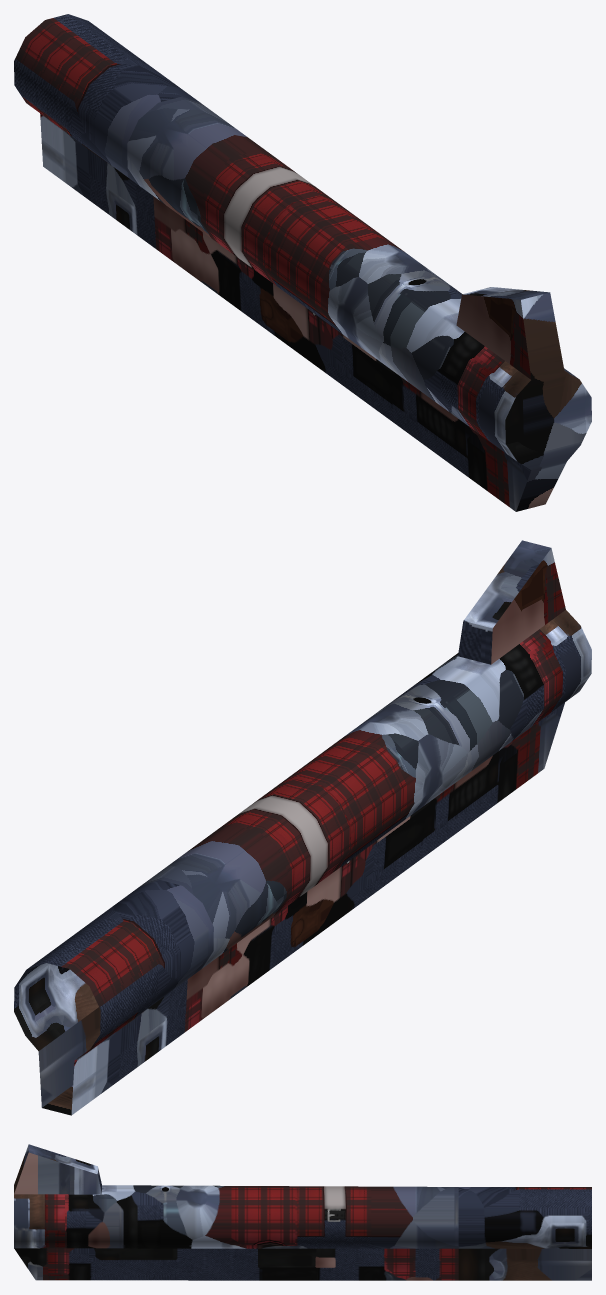
Rendered from RevolverFPV.fbx.
The picture shows the model from 3 angles, top to bottom: view 1: azimuth 30°, elevation 25°; view 2: azimuth 150°, elevation 25°; view 3: azimuth 270°, elevation 25°; orthographic projection. The views are drawn at different scales.
Parts seen in each view (by area): view 1: Body.004; view 2: Body.004; view 3: Body.004.
Boxes of the visible parts, left/top/right/bottom form: Body.004: left=14, top=14, right=591, bottom=511; Body.004: left=14, top=540, right=591, bottom=1115; Body.004: left=14, top=1144, right=591, bottom=1280.
Bounding box in the file's own units: 0.0483 × 0.1159 × 0.4739.
